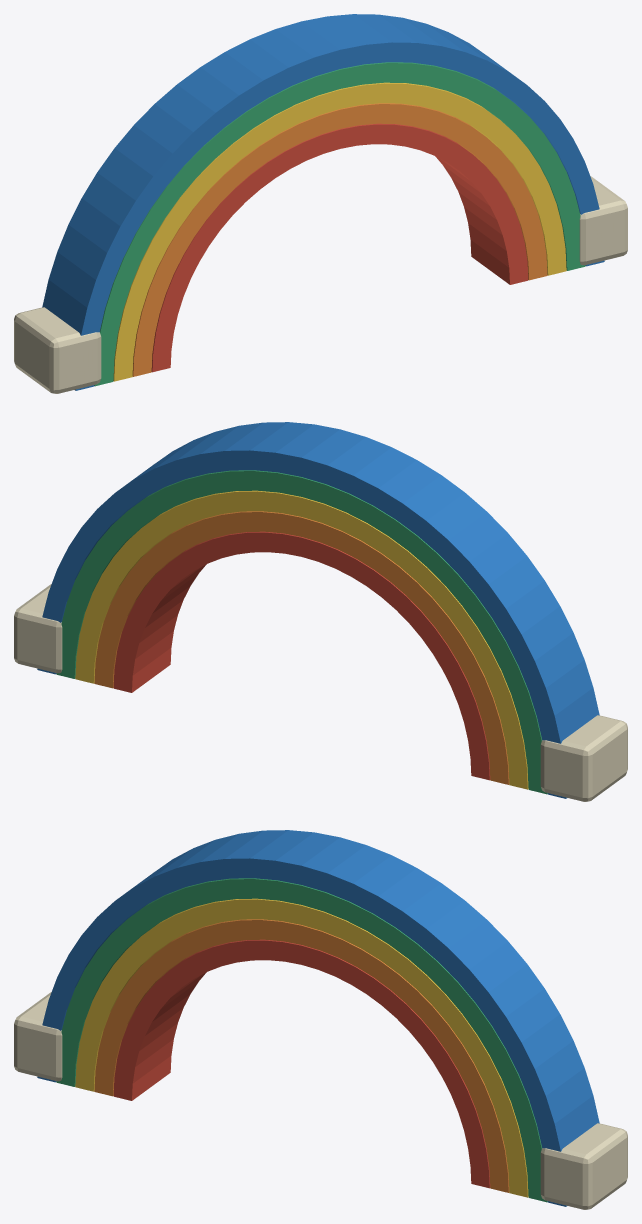
The model's file is playroom-rainbow.glb.
3 renders of one model, top to bottom at view 1: azimuth 30°, elevation 25°; view 2: azimuth 150°, elevation 25°; view 3: azimuth 330°, elevation 25°, orthographic.
Parts seen in each view (by area): view 1: Rainbow band 5, Rainbow band 4, Rainbow band 1, Rainbow band 3, Rainbow band 2, Padded arch base, Padded arch base.001; view 2: Rainbow band 5, Rainbow band 4, Rainbow band 1, Rainbow band 3, Rainbow band 2, Padded arch base, Padded arch base.001; view 3: Rainbow band 5, Rainbow band 4, Rainbow band 1, Rainbow band 3, Rainbow band 2, Padded arch base.001, Padded arch base.
Part boxes in pixels (x1,y1,x2,y2): Rainbow band 5: (42,14,604,390); Rainbow band 4: (94,62,585,386); Rainbow band 1: (151,123,528,372); Rainbow band 3: (113,82,566,381); Rainbow band 2: (132,103,547,376); Padded arch base: (14,307,101,393); Padded arch base.001: (579,176,627,265); Rainbow band 5: (37,422,599,798); Rainbow band 4: (56,470,547,794); Rainbow band 1: (113,531,490,780); Rainbow band 3: (75,490,528,789); Rainbow band 2: (94,511,509,784); Padded arch base: (540,715,627,801); Padded arch base.001: (14,584,62,673); Rainbow band 5: (37,830,599,1206); Rainbow band 4: (56,878,547,1202); Rainbow band 1: (113,939,490,1188); Rainbow band 3: (75,898,528,1197); Rainbow band 2: (94,919,509,1192); Padded arch base.001: (540,1123,627,1209); Padded arch base: (14,992,62,1081).
Bounding box in the file's own units: 16.35 × 7.48 × 2.05.
